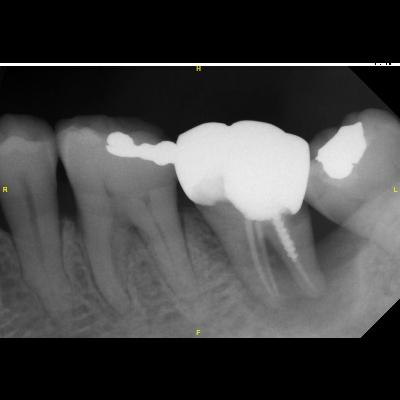tooth: (0, 110, 74, 331)
